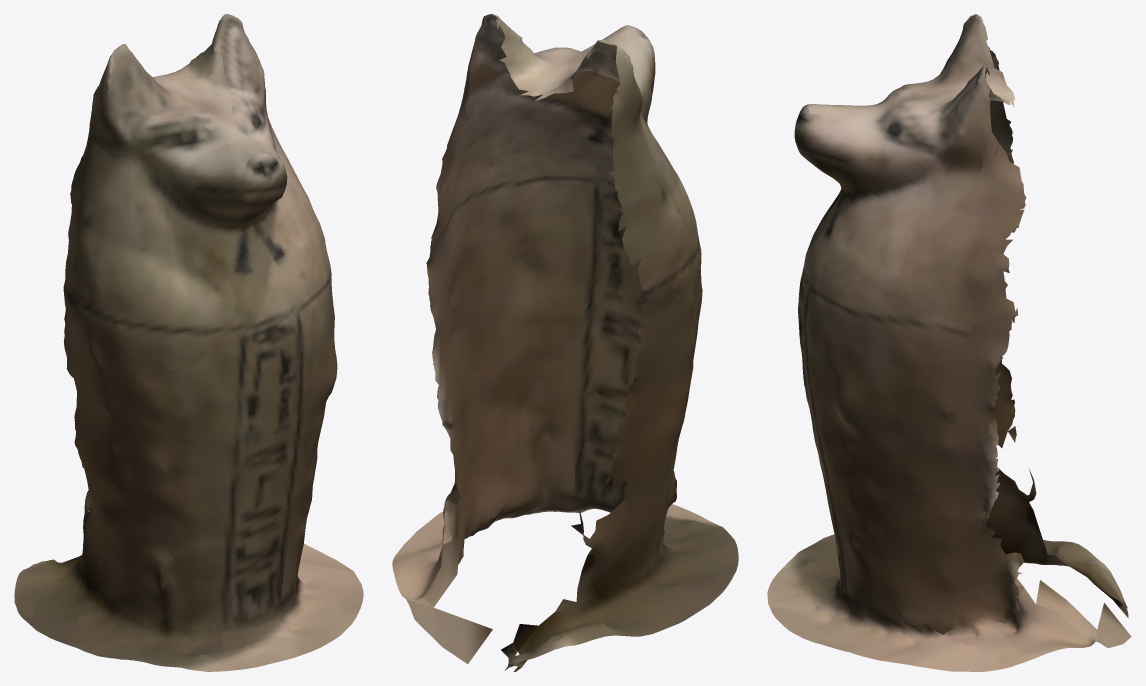
Rendered from jar.glb.
The picture shows the model from 3 angles, left to right: view 1: azimuth 30°, elevation 25°; view 2: azimuth 150°, elevation 25°; view 3: azimuth 270°, elevation 25°; orthographic projection.
Visible parts, largest first — view 1: Geom; view 2: Geom; view 3: Geom.
Boxes of the visible parts, x1=… form: Geom: x1=14, y1=14, x2=363, y2=671; Geom: x1=392, y1=14, x2=738, y2=671; Geom: x1=767, y1=14, x2=1131, y2=671.
Bounding box in the file's own units: 0.1423 × 0.2695 × 0.1499.
1 material, 1 textured.
